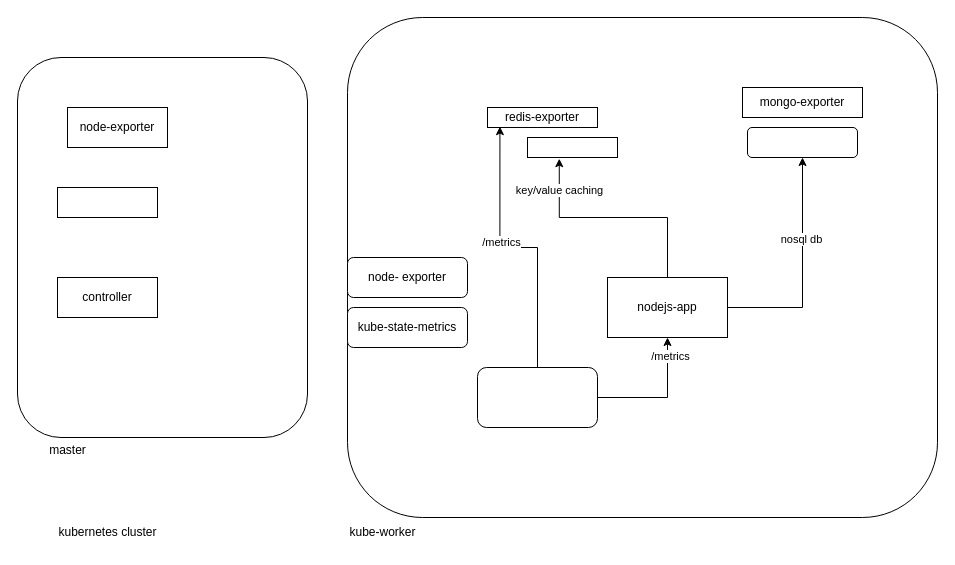
Image size: 955x565. Some labels were removed from this diagram. Each missing label, with the box of its shape:
api-server: (56, 186, 158, 218)
mongo: (746, 126, 858, 158)
prometheus: (476, 366, 598, 428)
redis: (526, 136, 618, 158)
